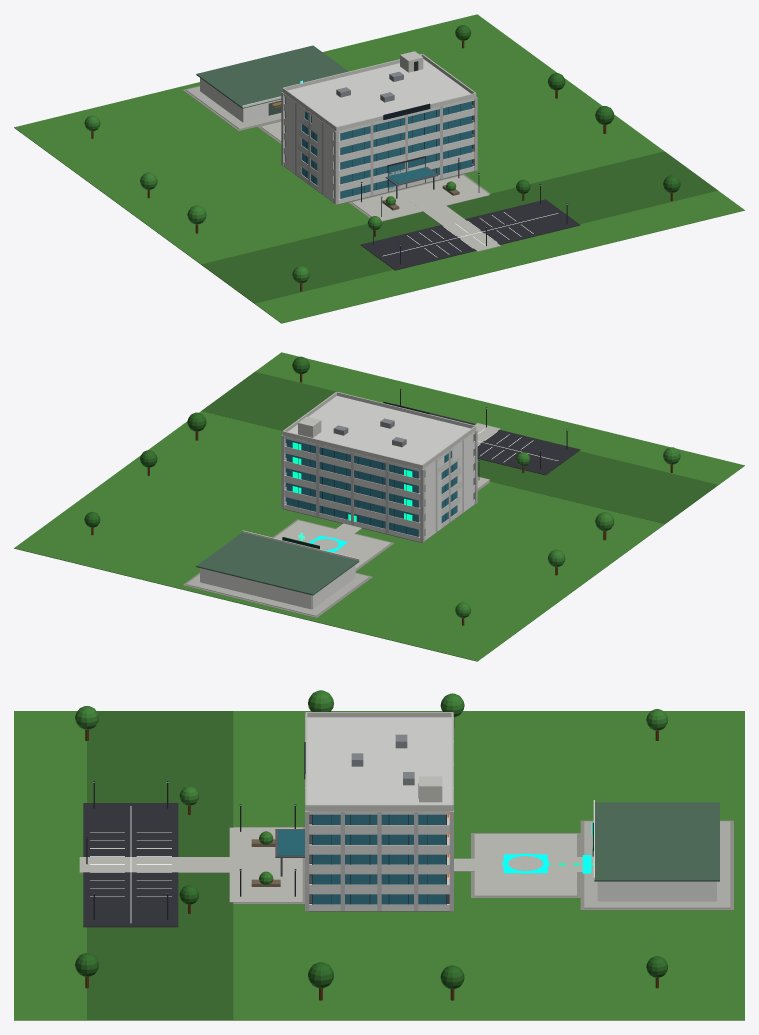
File: OfficeBuilding_5F.glb
3 views of the same model, one above another, from view 1: azimuth 30°, elevation 25°; view 2: azimuth 150°, elevation 25°; view 3: azimuth 270°, elevation 25° (orthographic). The views are drawn at different scales.
Parts seen in each view (by area): view 1: EXT_Lawn, EXT_LawnStripe, F5_Ceiling, EXT_Lot, EC_Roof, EXT_Plaza, EXT_Walk, FAC_Glass_F4, FAC_Glass_F3, FAC_Glass_F5, EC_Pad, FAC_Glass_F2 (+9 smaller); view 2: EXT_Lawn, EXT_LawnStripe, F5_Ceiling, EC_Roof, EXT_Lot, EC_Wall_Back, EXT_AssemblyPad, EC_Pad, FAC_Glass_B1, FAC_Glass_B2, FAC_Glass_B4, FAC_Glass_B3 (+10 smaller); view 3: EXT_Lawn, EXT_LawnStripe, F5_Ceiling, EXT_Lot, EC_Roof, EXT_AssemblyPad, EXT_Plaza, EXT_Walk, EC_Pad, EC_Wall_R, FAC_Glass_R1, FAC_Glass_R2 (+17 smaller).
Part boxes in pixels (left/top/right/bottom): EXT_Lawn: left=14, top=14, right=744, bottom=323; EXT_LawnStripe: left=201, top=151, right=717, bottom=303; F5_Ceiling: left=288, top=59, right=470, bottom=126; EXT_Lot: left=360, top=199, right=580, bottom=270; EC_Roof: left=196, top=45, right=348, bottom=108; EXT_Plaza: left=352, top=175, right=489, bottom=221; EXT_Walk: left=408, top=195, right=500, bottom=251; FAC_Glass_F4: left=340, top=116, right=471, bottom=154; FAC_Glass_F3: left=340, top=130, right=471, bottom=169; FAC_Glass_F5: left=340, top=101, right=471, bottom=140; EC_Pad: left=186, top=86, right=281, bottom=129; FAC_Glass_F2: left=340, top=145, right=471, bottom=184; EXT_Lawn: left=14, top=352, right=744, bottom=661; EXT_LawnStripe: left=201, top=372, right=717, bottom=523; F5_Ceiling: left=288, top=396, right=470, bottom=464; EC_Roof: left=196, top=532, right=359, bottom=595; EXT_Lot: left=395, top=404, right=580, bottom=475; EC_Wall_Back: left=200, top=568, right=311, bottom=609; EXT_AssemblyPad: left=274, top=520, right=390, bottom=568; EC_Pad: left=186, top=573, right=368, bottom=616; FAC_Glass_B1: left=287, top=497, right=418, bottom=536; FAC_Glass_B2: left=287, top=483, right=418, bottom=522; FAC_Glass_B4: left=287, top=454, right=418, bottom=492; FAC_Glass_B3: left=287, top=468, right=418, bottom=507; EXT_Lawn: left=14, top=711, right=744, bottom=1020; EXT_LawnStripe: left=87, top=711, right=233, bottom=1019; F5_Ceiling: left=307, top=717, right=451, bottom=804; EXT_Lot: left=83, top=803, right=178, bottom=927; EC_Roof: left=594, top=802, right=719, bottom=881; EXT_AssemblyPad: left=474, top=834, right=576, bottom=896; EXT_Plaza: left=229, top=827, right=302, bottom=902; EXT_Walk: left=79, top=857, right=269, bottom=873; EC_Pad: left=584, top=821, right=730, bottom=908; EC_Wall_R: left=598, top=881, right=715, bottom=901; FAC_Glass_R1: left=312, top=894, right=446, bottom=904; FAC_Glass_R2: left=312, top=874, right=446, bottom=884.
Bounding box in the file's own units: 100 × 17.93 × 100.
